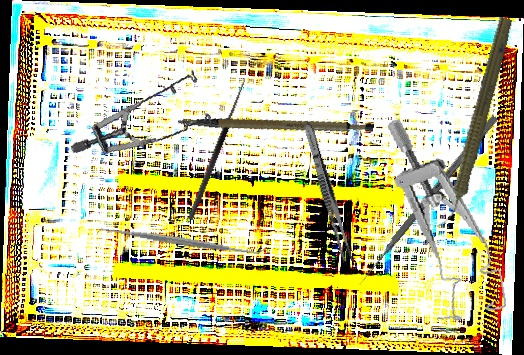Dressing Forceps: (299, 120, 357, 265)
Handpiece: (434, 14, 517, 233)
Hook Surgical: (180, 74, 249, 221)
Pusher: (355, 114, 499, 288)
Scalpel Handle: (177, 87, 375, 158)
Spatula Surgical: (96, 218, 267, 264)
Speculum: (383, 105, 510, 329), (69, 50, 222, 178)
